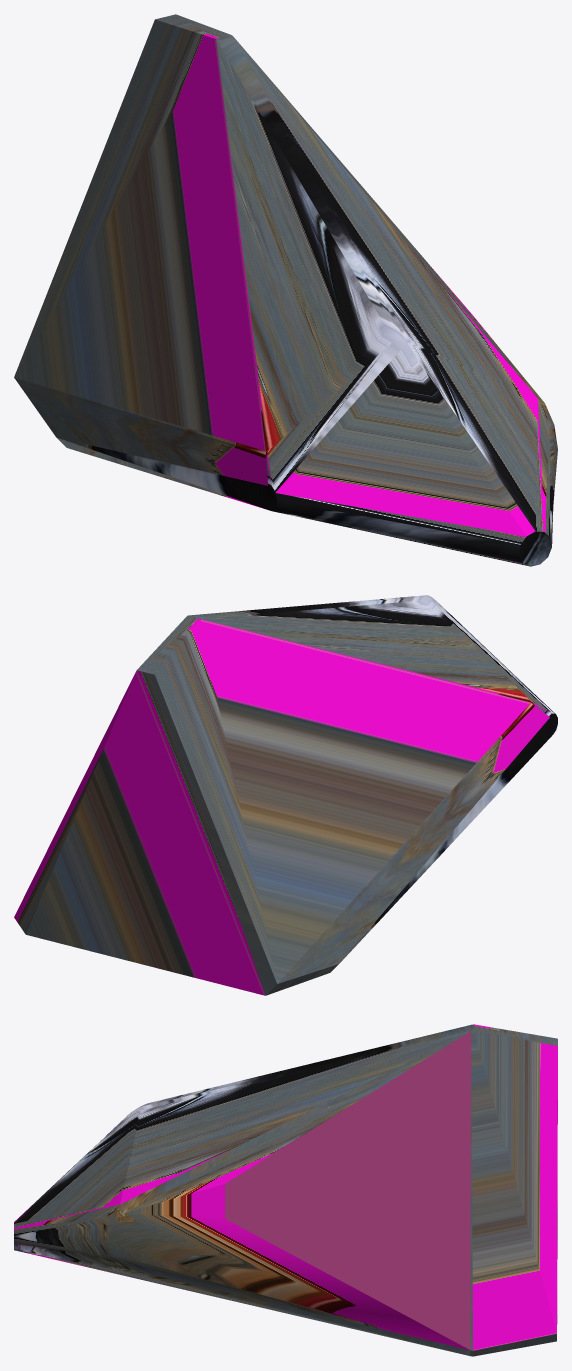
The model's file is matterman.p.glb.
3 renders of one model, top to bottom at view 1: azimuth 30°, elevation 25°; view 2: azimuth 150°, elevation 25°; view 3: azimuth 270°, elevation 25°, orthographic. The views are drawn at different scales.
Visible parts, largest first — view 1: p.matter_manipulator; view 2: p.matter_manipulator; view 3: p.matter_manipulator.
Boxes of the visible parts, x1=… form: p.matter_manipulator: x1=14, y1=14, x2=557, y2=566; p.matter_manipulator: x1=14, y1=595, x2=557, y2=995; p.matter_manipulator: x1=14, y1=1024, x2=557, y2=1356.
Bounding box in the file's own units: 1.98 × 2.02 × 3.63.
Materials: 1 (1 with a texture image).
